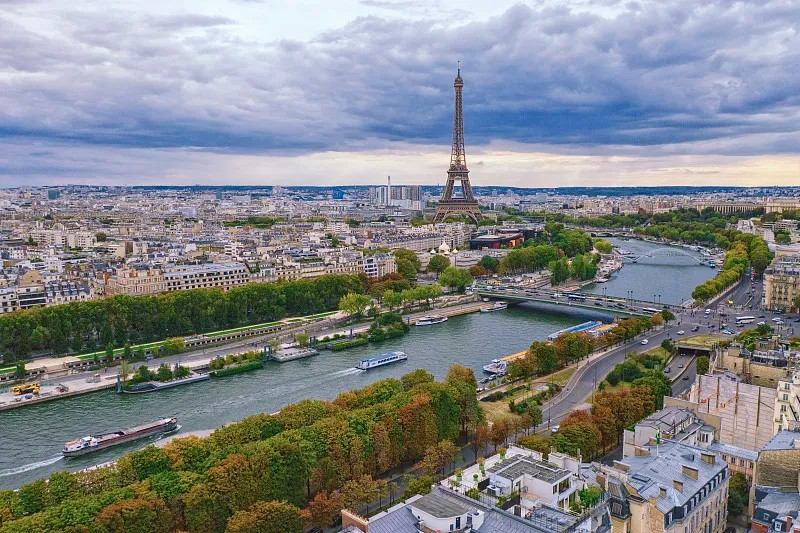Eiffel: (431, 60, 485, 226)
